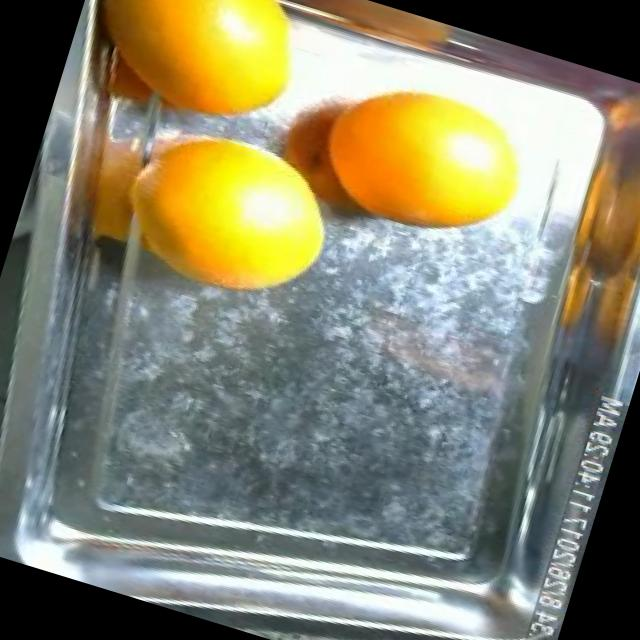Fruit: (100, 106, 368, 340), (308, 44, 564, 274)
